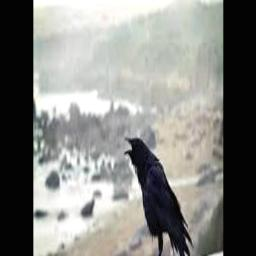Crow: (123, 134, 194, 256)
